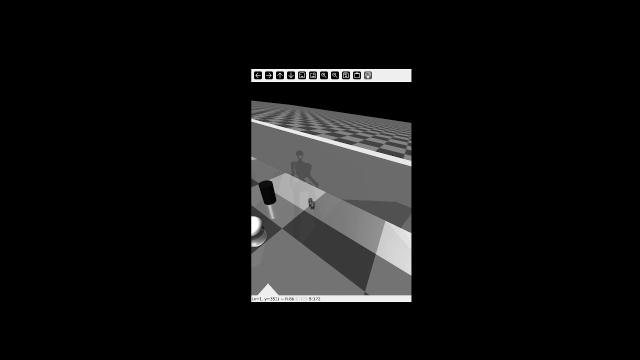cilindro: (260, 176, 279, 207)
esfera: (246, 212, 266, 237), (306, 195, 315, 202), (308, 202, 316, 206)
